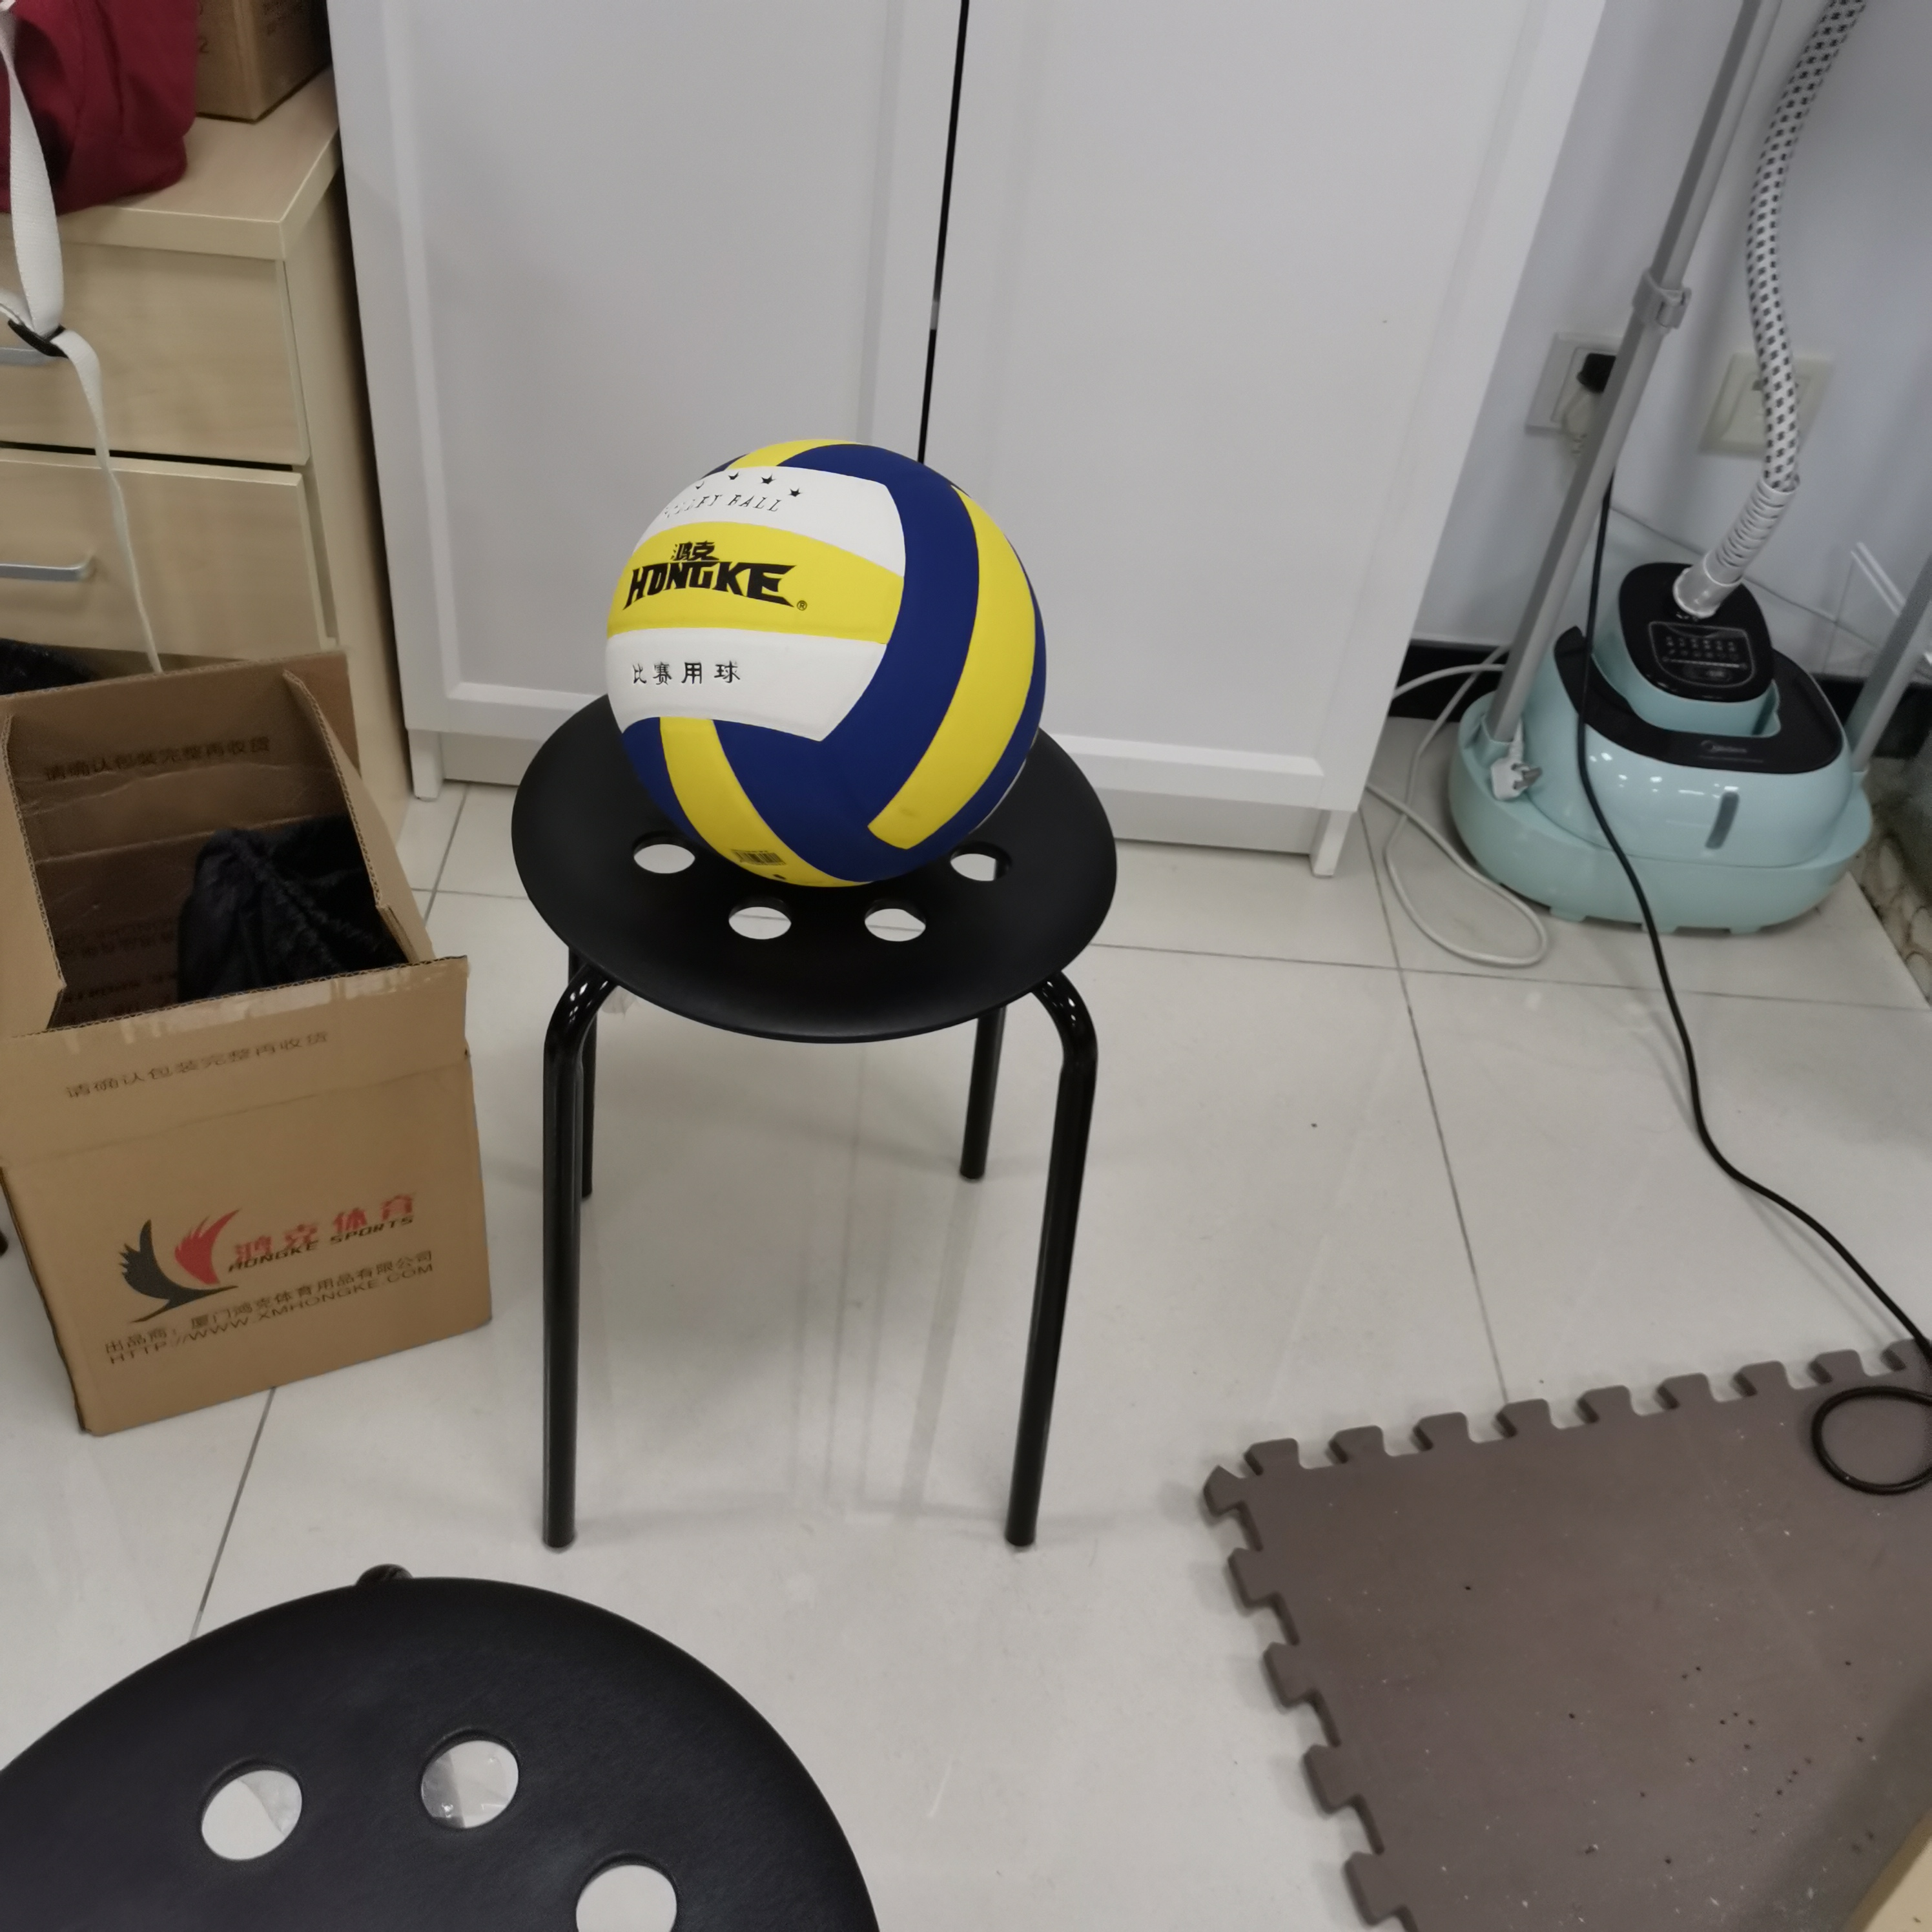volleyball: (602, 433, 1053, 901)
